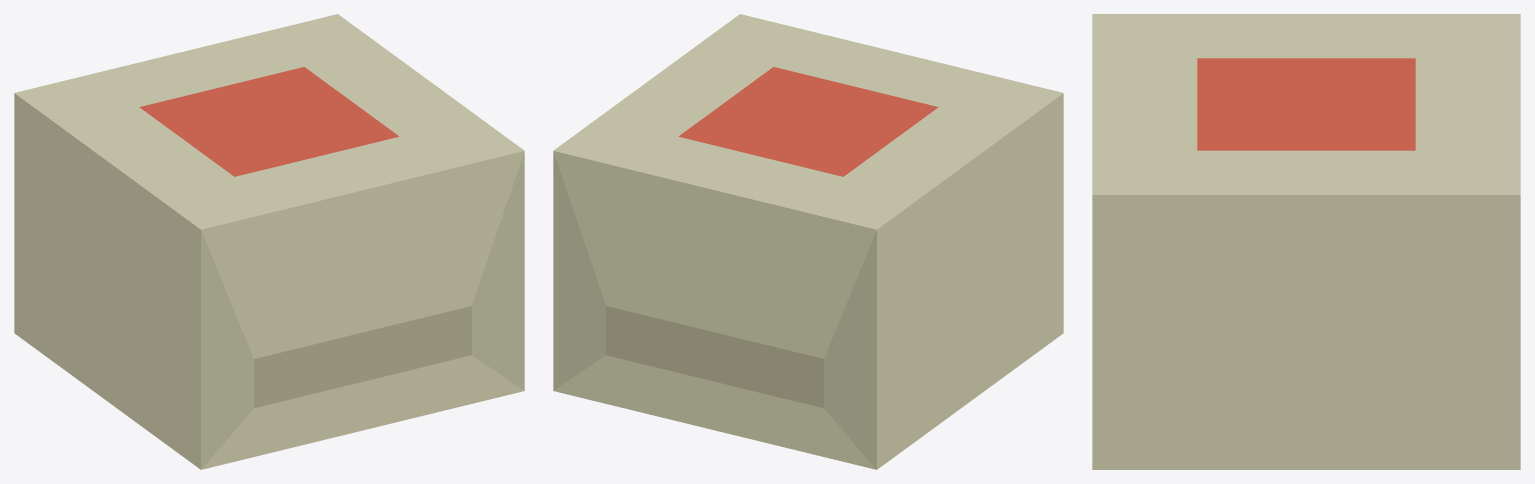
Rendered from BurguerWrapped.glb.
3 renders of one model, left to right at view 1: azimuth 30°, elevation 25°; view 2: azimuth 150°, elevation 25°; view 3: azimuth 270°, elevation 25°, orthographic. The views are drawn at different scales.
Visible parts, largest first — view 1: SI_Food_BurgerWrapped; view 2: SI_Food_BurgerWrapped; view 3: SI_Food_BurgerWrapped.
Boxes of the visible parts, x1,y1,x2,y2 form: SI_Food_BurgerWrapped: [14, 14, 524, 469]; SI_Food_BurgerWrapped: [553, 14, 1063, 469]; SI_Food_BurgerWrapped: [1092, 14, 1520, 469].
Bounding box in the file's own units: 0.00417 × 0.00296 × 0.00417.
Materials: 1 (1 with a texture image).
